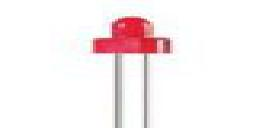LED: (89, 14, 174, 128)
